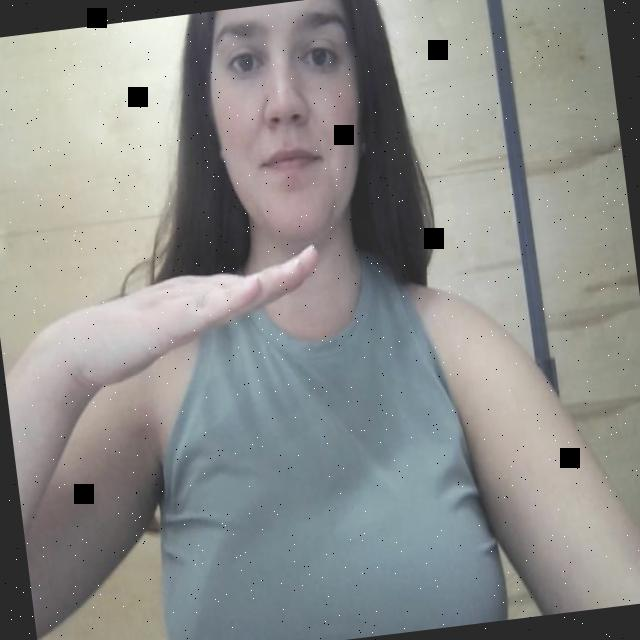Paper: (0, 186, 351, 411)
